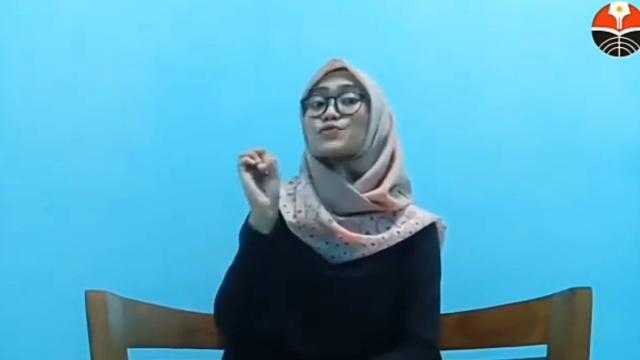E: (237, 146, 281, 219)
